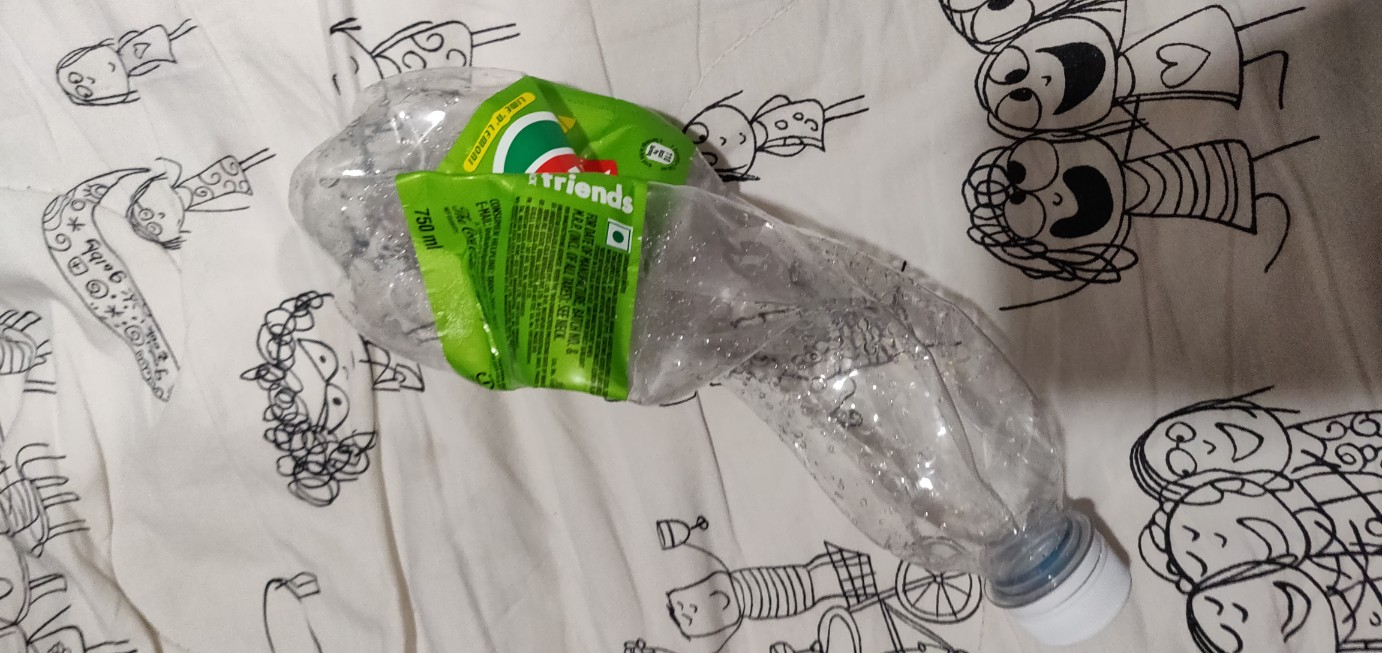Electronics: (265, 49, 1173, 652)
